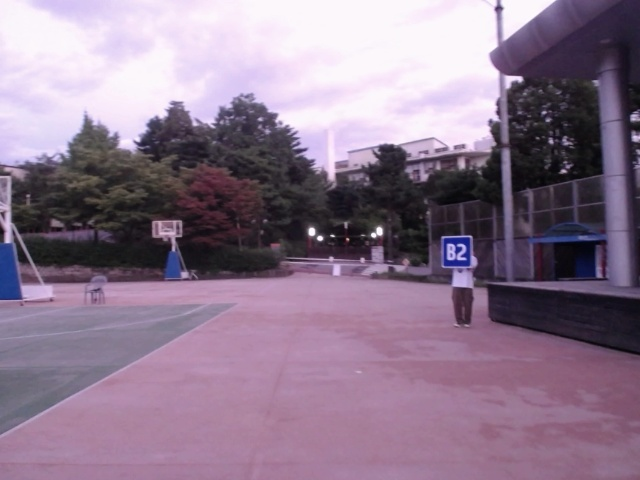delivery_b2: (441, 234, 473, 267)
